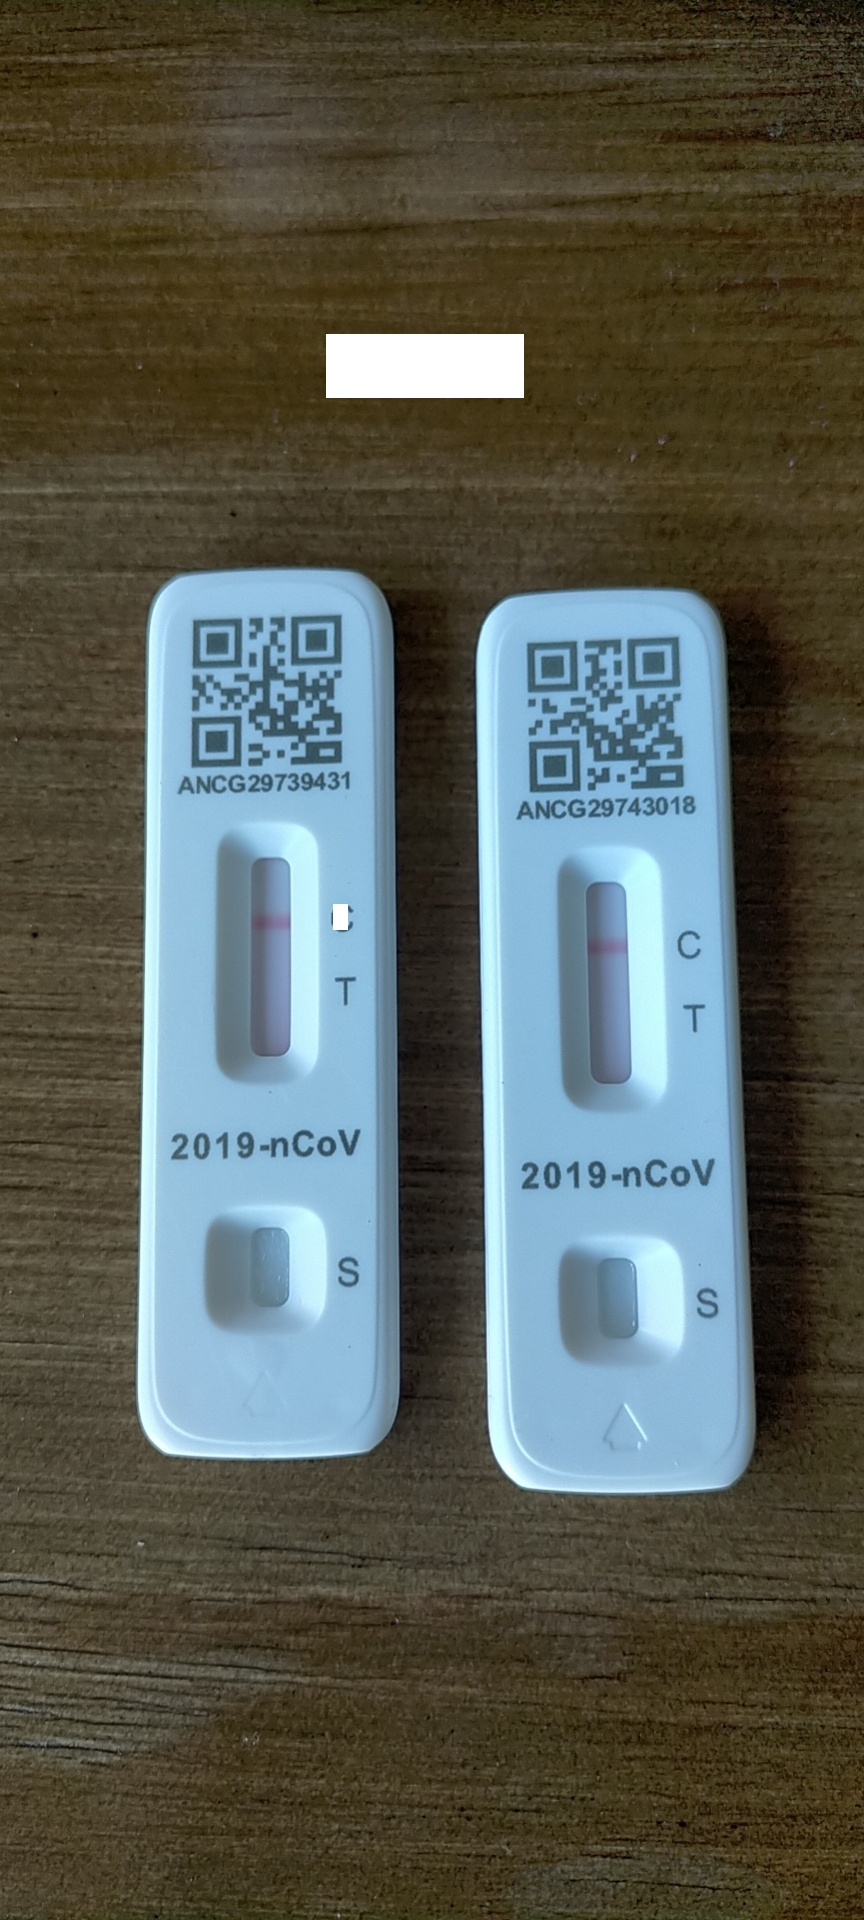negative: (556, 842, 658, 1127), (214, 818, 315, 1091)
